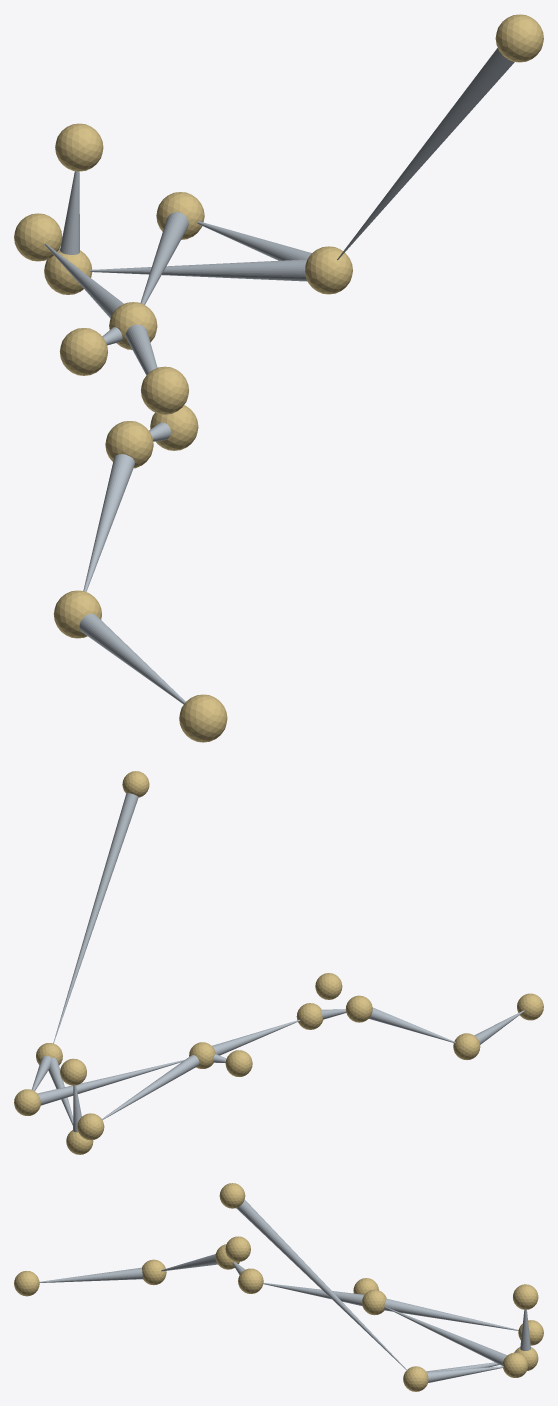
File: skeleton.glb
3 views of the same model, one above another, from view 1: azimuth 30°, elevation 25°; view 2: azimuth 150°, elevation 25°; view 3: azimuth 270°, elevation 25° (orthographic). The views are drawn at different scales.
Visible parts, largest first — view 1: world; view 2: world; view 3: world.
Boxes of the visible parts, x1,y1,x2,y2 form: world: [14, 14, 543, 742]; world: [14, 771, 543, 1154]; world: [14, 1183, 543, 1391].
Size of the model in its own units: 0.4169 by 0.327 by 0.6457.
